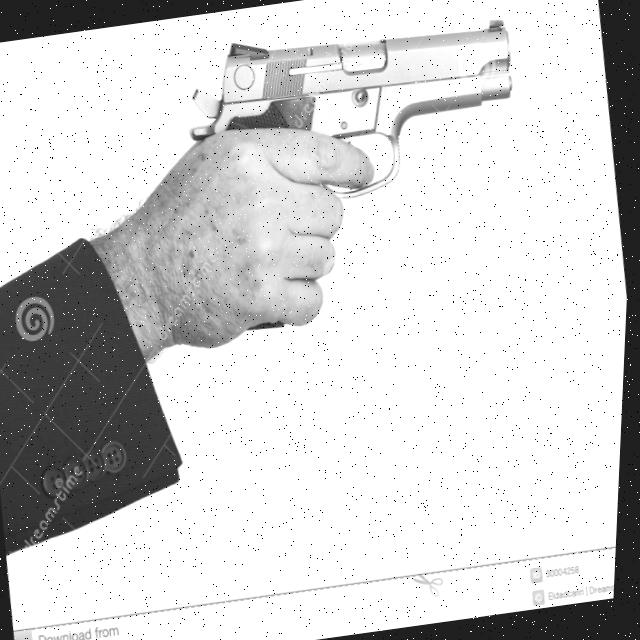pistol: (176, 3, 529, 221)
